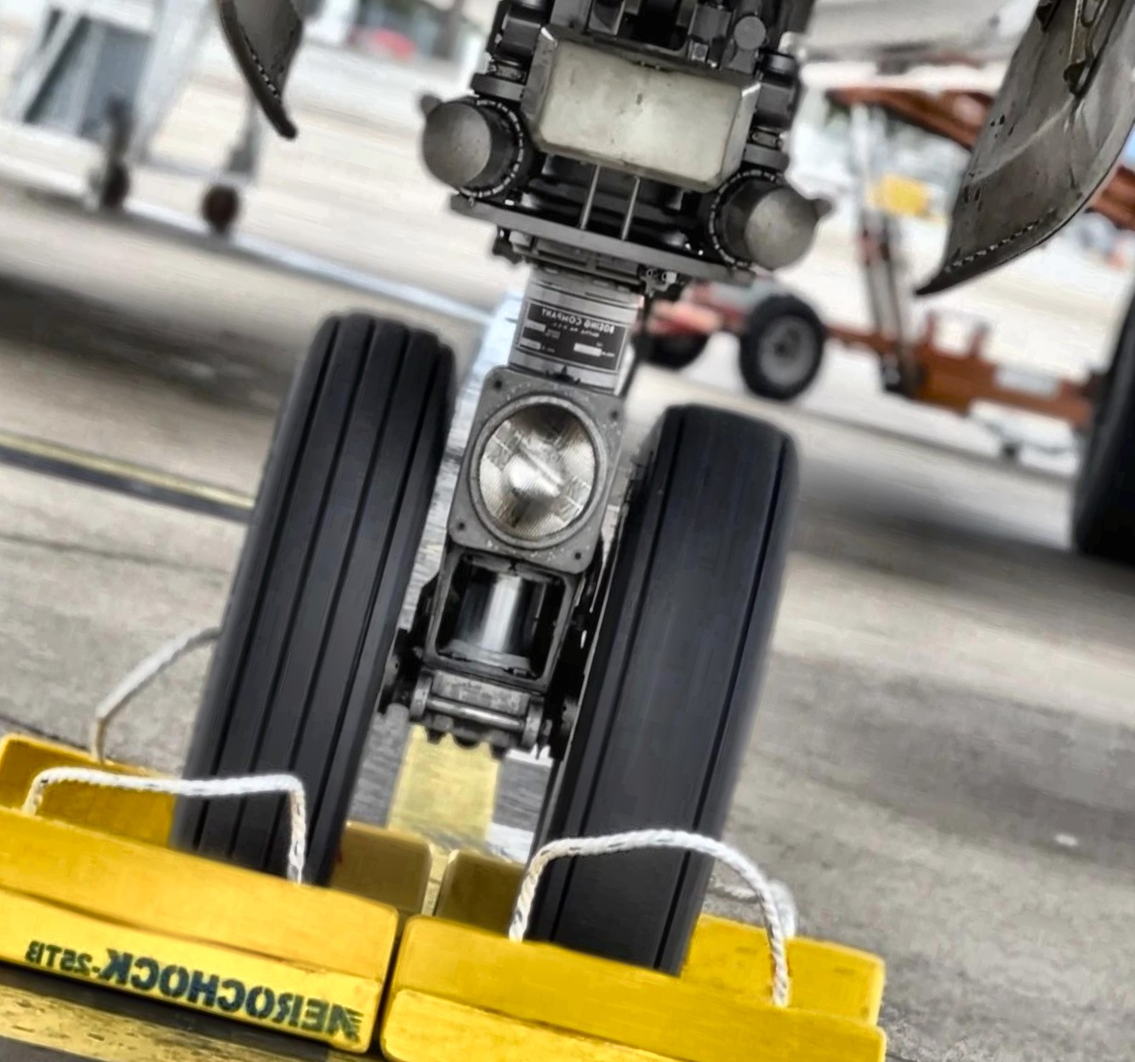chock: (0, 777, 405, 1062), (425, 836, 899, 1036), (0, 724, 440, 920), (368, 902, 903, 1062)
wheel: (510, 385, 823, 976), (169, 297, 478, 894), (1060, 299, 1135, 561), (732, 286, 837, 406), (639, 310, 712, 376)
